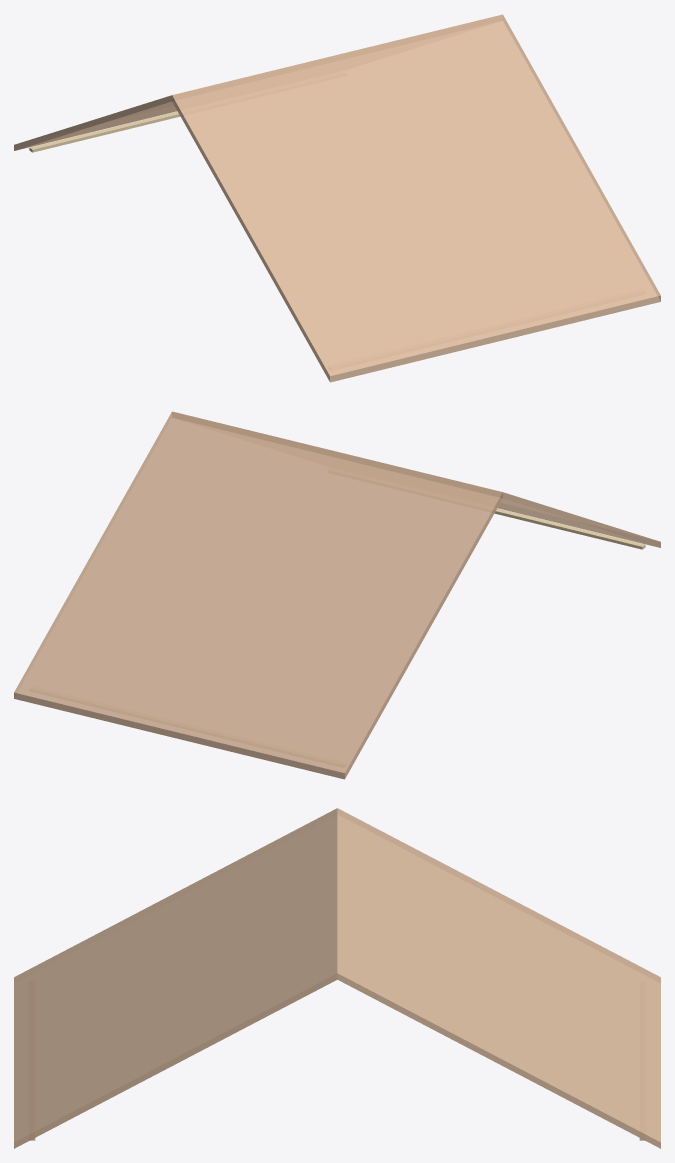
The model's file is stage-4.glb.
3 views of the same model, one above another, from view 1: azimuth 30°, elevation 25°; view 2: azimuth 150°, elevation 25°; view 3: azimuth 270°, elevation 25° (orthographic). The views are drawn at different scales.
Visible parts, largest first — view 1: Geom3D (×2); view 2: Geom3D (×2); view 3: Geom3D.
Part boxes in pixels (x1,y1,x2,y2): Geom3D (×2): (14, 14, 660, 382); Geom3D (×2): (14, 411, 660, 779); Geom3D: (14, 808, 660, 1148).
Size of the model in its own units: 6.18 by 3.06 by 10.22.
